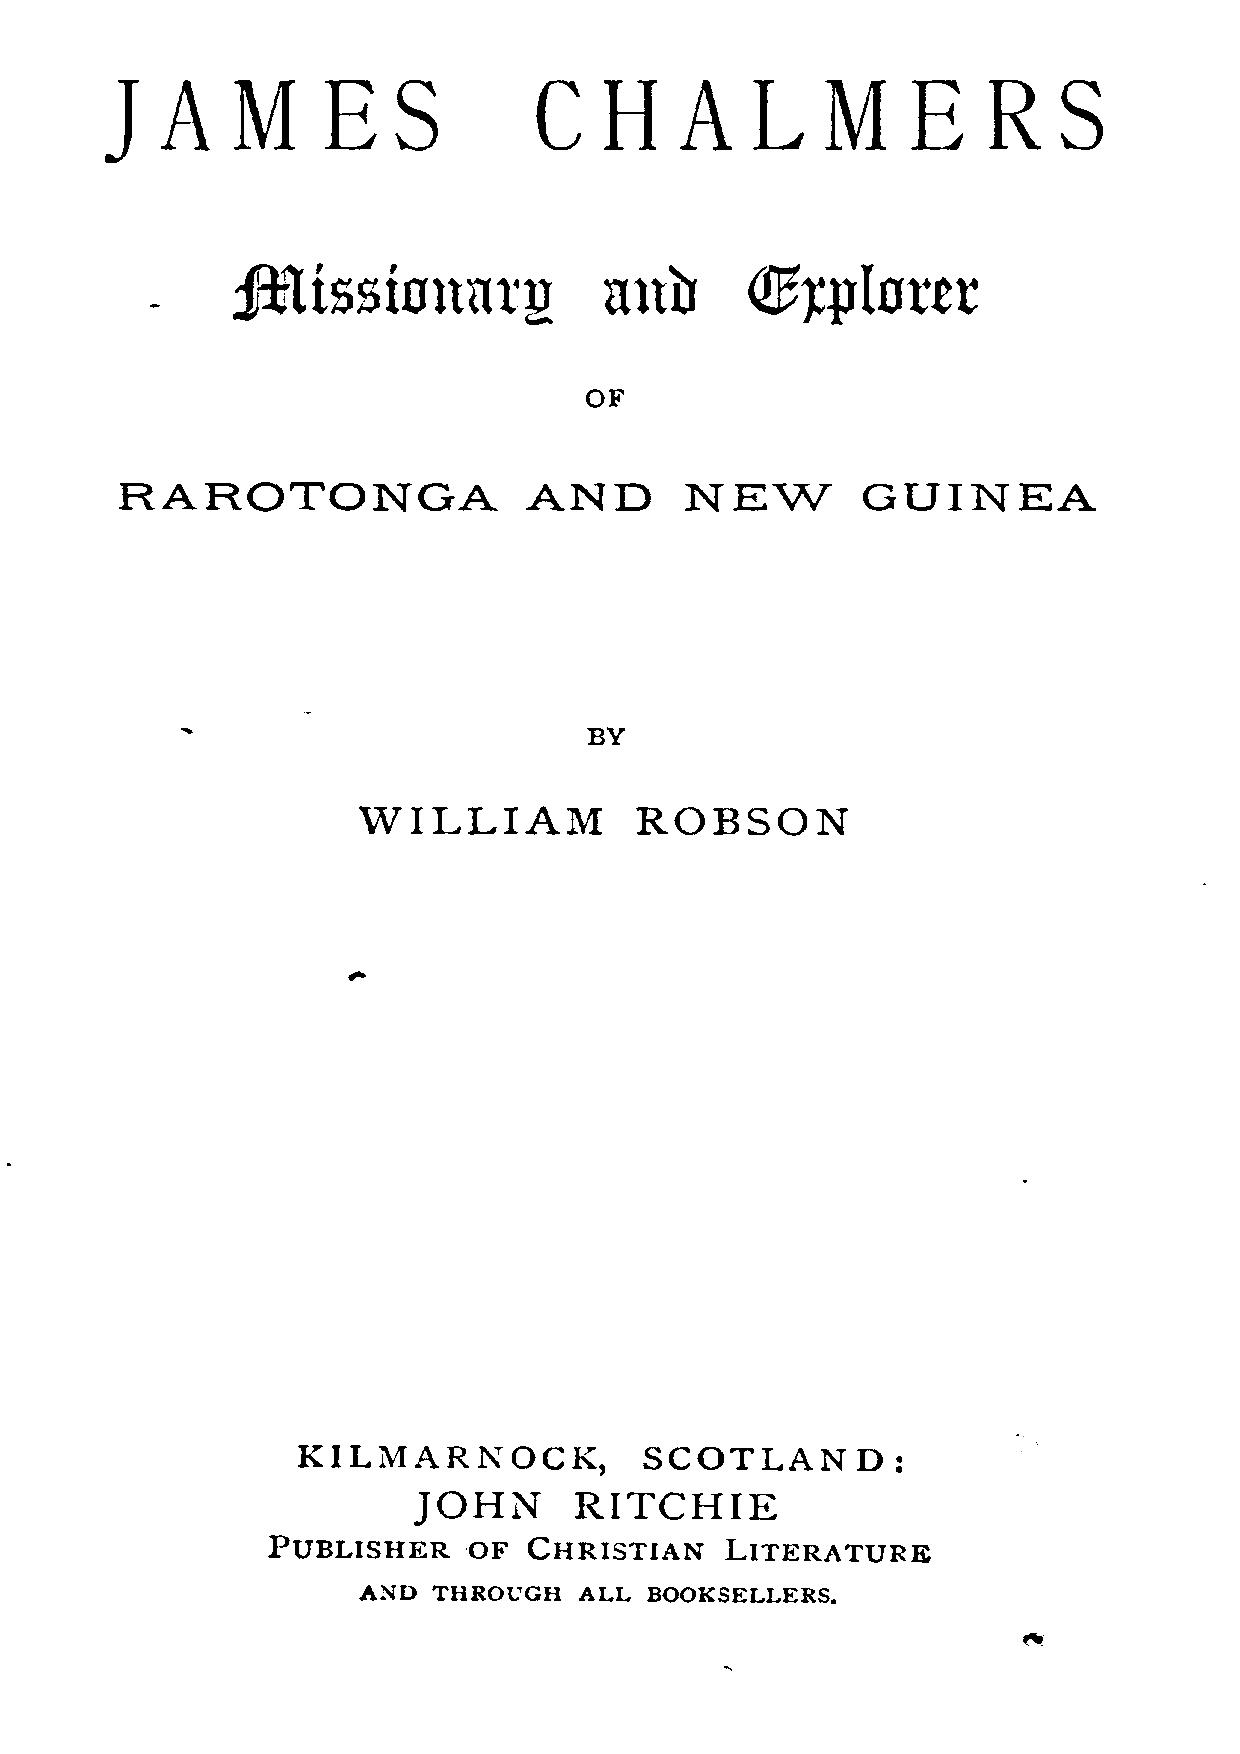author: (350, 723, 849, 839)
title: (97, 71, 1104, 517)
